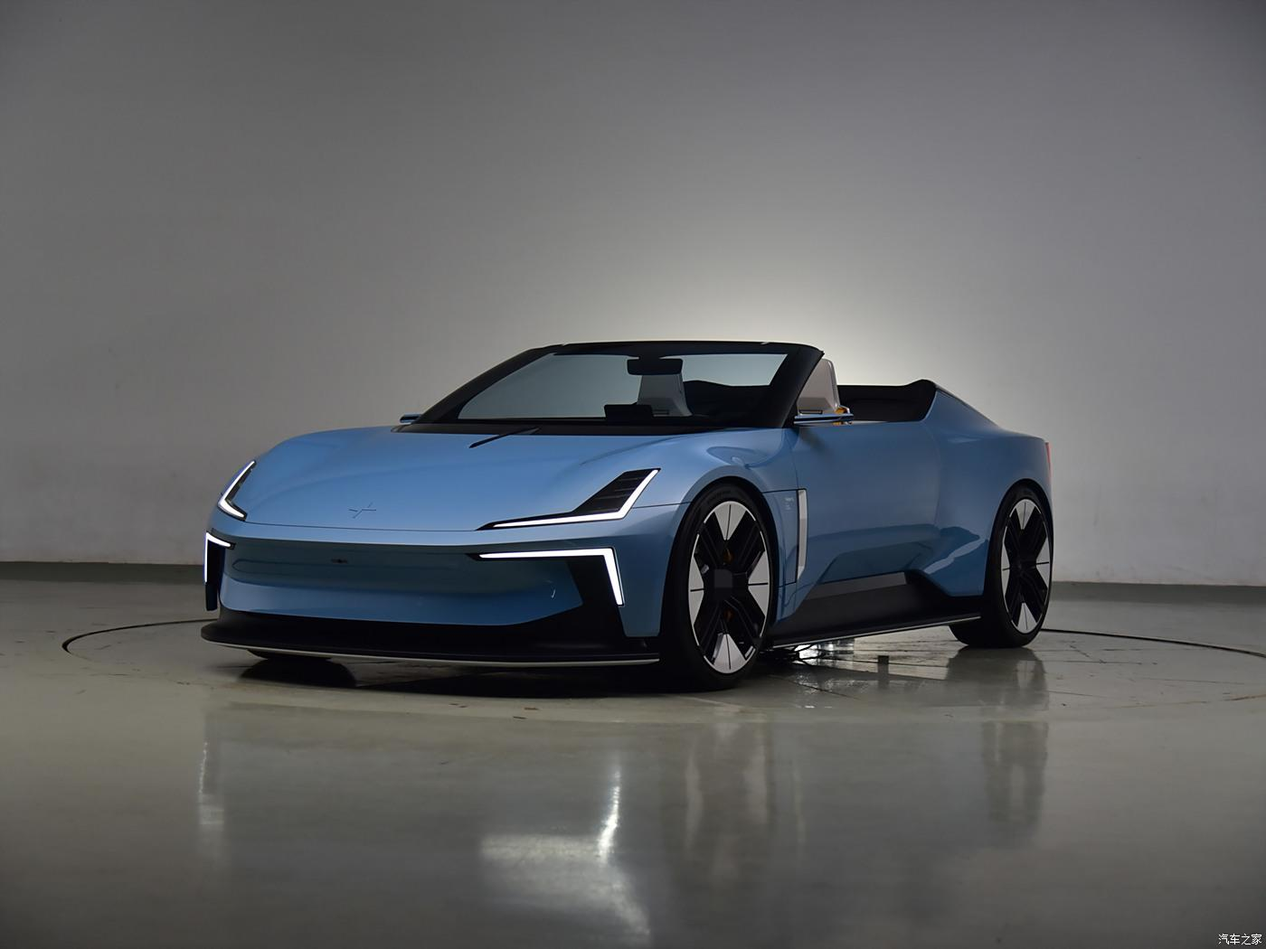Polestar: (349, 503, 375, 519)
